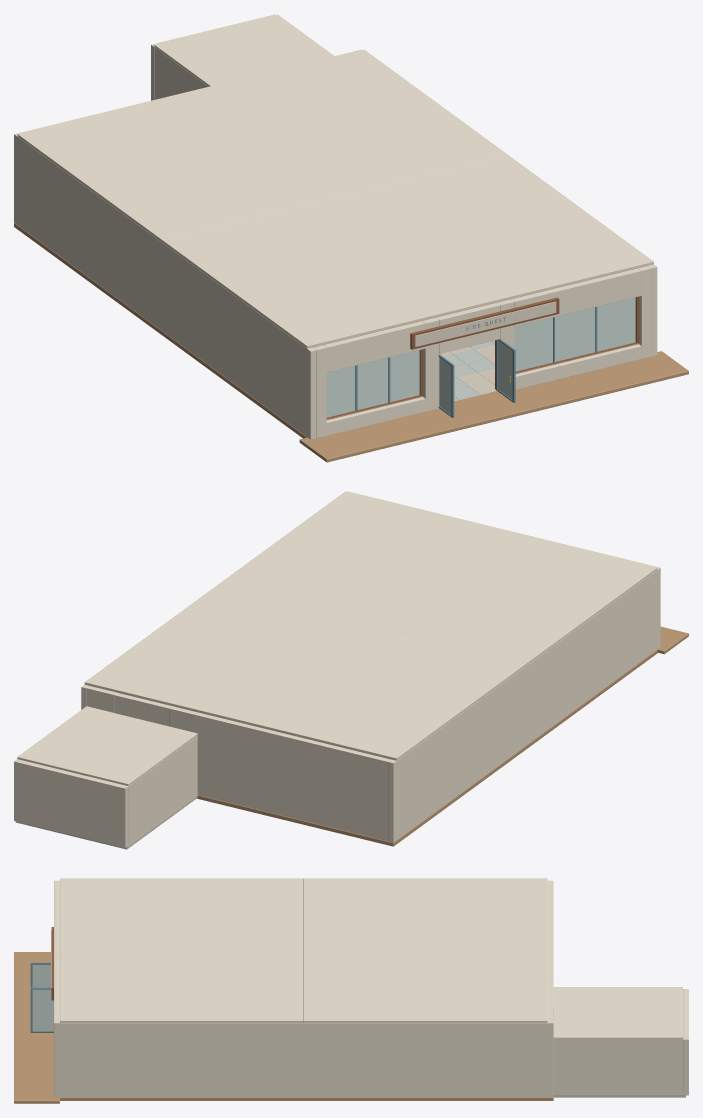
The model's file is CozyGamingStore_v02.fbx.
The picture shows the model from 3 angles, top to bottom: view 1: azimuth 30°, elevation 25°; view 2: azimuth 150°, elevation 25°; view 3: azimuth 270°, elevation 25°; orthographic projection. The views are drawn at different scales.
Visible parts, largest first — view 1: CST01_FBX_CST01_Ceiling_Main_Front, CST01_FBX_CST01_Ceiling_Main_Rear, CST01_FBX_CST01_SideWall_-6.0, CST01_FBX_CST01_Front_Stoop, CST01_FBX_CST01_Ceiling_Stockroom, CST01_FBX_CST01_Window_Right_Glass, CST01_FBX_CST01_Window_Left_Glass, CST01_FBX_CST01_Window_Right_HeaderWall, CST01_FBX_CST01_Window_Left_HeaderWall, CST01_FBX_CST01_Floor_Tiles_Combined_075m, CST01_FBX_CST01_Window_Right_SillWall, CST01_FBX_CST01_Exterior_Sign_Inset (+9 smaller); view 2: CST01_FBX_CST01_Ceiling_Main_Rear, CST01_FBX_CST01_Ceiling_Main_Front, CST01_FBX_CST01_SideWall_-6.0, CST01_FBX_CST01_BackWall_Left, CST01_FBX_CST01_Ceiling_Stockroom, CST01_FBX_CST01_Stock_BackWall, CST01_FBX_CST01_Stock_SideWall_1.7999999999999998, CST01_FBX_CST01_Main_Floor_Slab, CST01_FBX_CST01_BackWall_Over_Door, CST01_FBX_CST01_BackWall_Right; view 3: CST01_FBX_CST01_SideWall_6.0, CST01_FBX_CST01_Ceiling_Main_Rear, CST01_FBX_CST01_Ceiling_Main_Front, CST01_FBX_CST01_Stock_SideWall_5.8, CST01_FBX_CST01_Ceiling_Stockroom, CST01_FBX_CST01_Front_Stoop, CST01_FBX_CST01_Main_Floor_Slab, CST01_FBX_CST01_Entrance_R_Glass, CST01_FBX_CST01_BackWall_Left, CST01_FBX_CST01_Stock_BackWall, CST01_FBX_CST01_Entrance_L_Glass, CST01_FBX_CST01_Stockroom_Floor.
Part boxes in pixels (x1=…): CST01_FBX_CST01_Ceiling_Main_Front: x1=162, y1=155, x2=653, y2=348; CST01_FBX_CST01_Ceiling_Main_Rear: x1=17, y1=49, x2=508, y2=242; CST01_FBX_CST01_SideWall_-6.0: x1=14, y1=133, x2=316, y2=439; CST01_FBX_CST01_Front_Stoop: x1=299, y1=351, x2=688, y2=462; CST01_FBX_CST01_Ceiling_Stockroom: x1=154, y1=15, x2=334, y2=86; CST01_FBX_CST01_Window_Right_Glass: x1=514, y1=297, x2=635, y2=371; CST01_FBX_CST01_Window_Left_Glass: x1=326, y1=350, x2=419, y2=417; CST01_FBX_CST01_Window_Right_HeaderWall: x1=511, y1=268, x2=641, y2=326; CST01_FBX_CST01_Window_Left_HeaderWall: x1=323, y1=321, x2=425, y2=372; CST01_FBX_CST01_Floor_Tiles_Combined_075m: x1=440, y1=340, x2=496, y2=401; CST01_FBX_CST01_Window_Right_SillWall: x1=515, y1=344, x2=641, y2=389; CST01_FBX_CST01_Exterior_Sign_Inset: x1=415, y1=301, x2=556, y2=346; CST01_FBX_CST01_Ceiling_Main_Rear: x1=84, y1=587, x2=526, y2=760; CST01_FBX_CST01_Ceiling_Main_Front: x1=215, y1=491, x2=657, y2=664; CST01_FBX_CST01_SideWall_-6.0: x1=388, y1=566, x2=660, y2=842; CST01_FBX_CST01_BackWall_Left: x1=169, y1=706, x2=390, y2=841; CST01_FBX_CST01_Ceiling_Stockroom: x1=17, y1=706, x2=197, y2=785; CST01_FBX_CST01_Stock_BackWall: x1=14, y1=759, x2=128, y2=847; CST01_FBX_CST01_Stock_SideWall_1.7999999999999998: x1=125, y1=736, x2=197, y2=845; CST01_FBX_CST01_Main_Floor_Slab: x1=197, y1=650, x2=657, y2=846; CST01_FBX_CST01_BackWall_Over_Door: x1=114, y1=693, x2=172, y2=726; CST01_FBX_CST01_BackWall_Right: x1=87, y1=686, x2=117, y2=712; CST01_FBX_CST01_SideWall_6.0: x1=54, y1=1020, x2=553, y2=1097; CST01_FBX_CST01_Ceiling_Main_Rear: x1=303, y1=878, x2=547, y2=1022; CST01_FBX_CST01_Ceiling_Main_Front: x1=60, y1=878, x2=303, y2=1022; CST01_FBX_CST01_Stock_SideWall_5.8: x1=553, y1=1039, x2=682, y2=1095; CST01_FBX_CST01_Ceiling_Stockroom: x1=553, y1=987, x2=682, y2=1039; CST01_FBX_CST01_Front_Stoop: x1=14, y1=952, x2=59, y2=1103; CST01_FBX_CST01_Main_Floor_Slab: x1=60, y1=1097, x2=553, y2=1100; CST01_FBX_CST01_Entrance_R_Glass: x1=32, y1=989, x2=53, y2=1031; CST01_FBX_CST01_BackWall_Left: x1=547, y1=883, x2=553, y2=982; CST01_FBX_CST01_Stock_BackWall: x1=683, y1=989, x2=688, y2=1095; CST01_FBX_CST01_Entrance_L_Glass: x1=32, y1=964, x2=50, y2=987; CST01_FBX_CST01_Stockroom_Floor: x1=553, y1=1095, x2=685, y2=1097.
Size of the model in its own units: 1950 by 492 by 3738.
